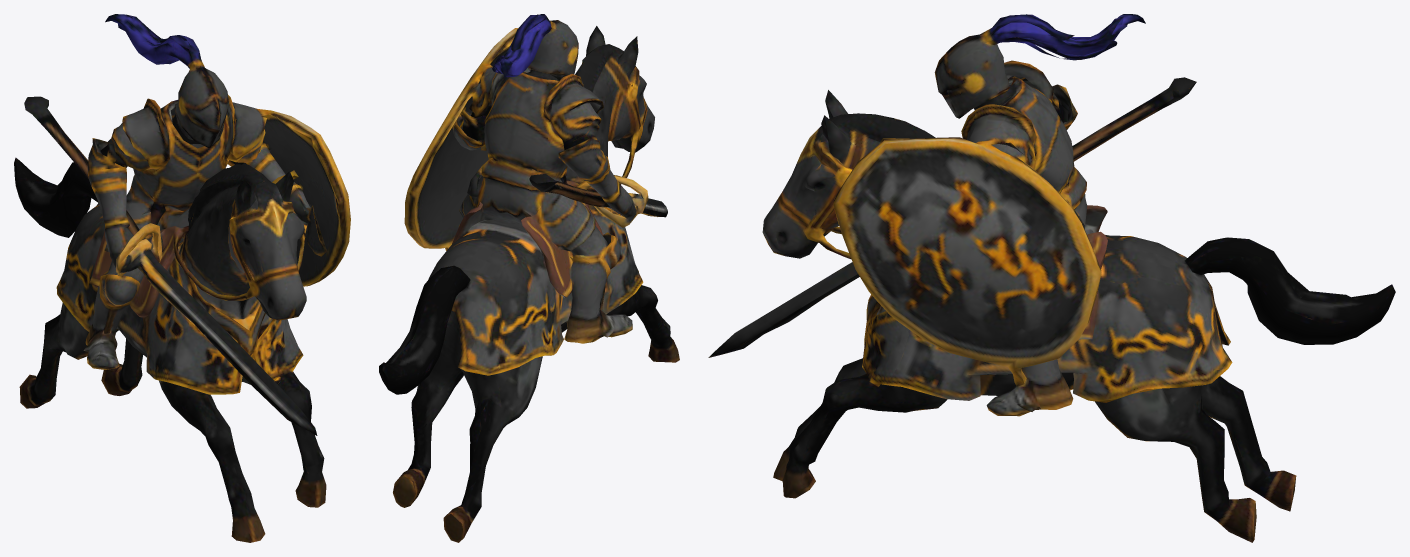
The model's file is knights__crown_living_iron_strike.glb.
The picture shows the model from 3 angles, left to right: view 1: azimuth 30°, elevation 25°; view 2: azimuth 150°, elevation 25°; view 3: azimuth 270°, elevation 25°; orthographic projection. The views are drawn at different scales.
Parts seen in each view (by area): view 1: world; view 2: world; view 3: world.
Boxes of the visible parts, x1,y1,x2,y2 form: world: (14, 14, 350, 542); world: (379, 14, 679, 542); world: (708, 14, 1395, 542).
Bounding box in the file's own units: 0.3878 × 0.8206 × 0.9934.
1 material, 1 textured.
